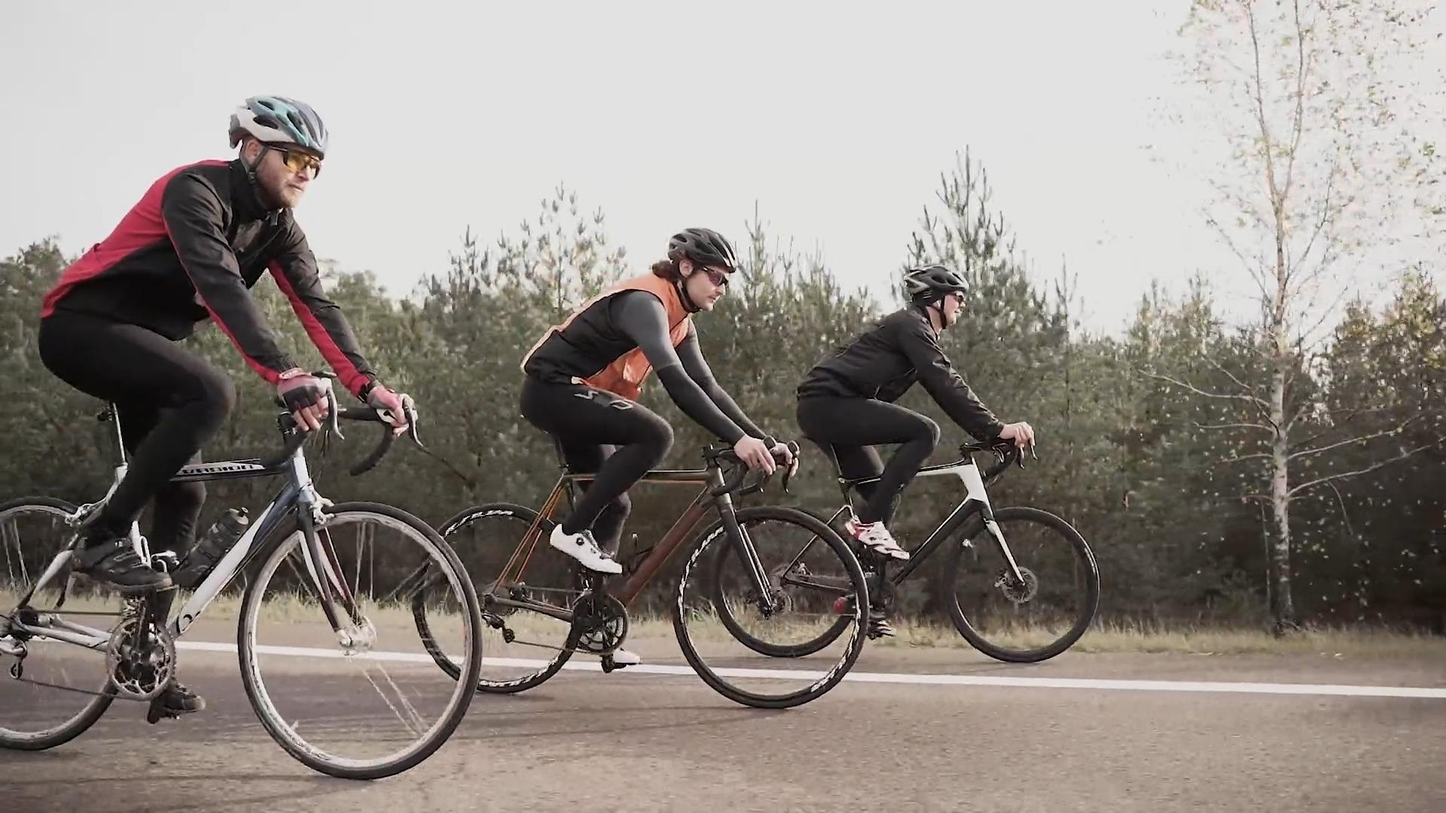bicyclist: (0, 95, 479, 780), (414, 229, 873, 711), (712, 262, 1101, 663)
helmet: (228, 95, 329, 209), (668, 227, 737, 313), (903, 264, 970, 330)
